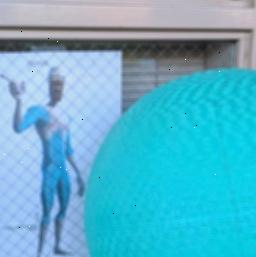algae: (82, 65, 256, 257)
